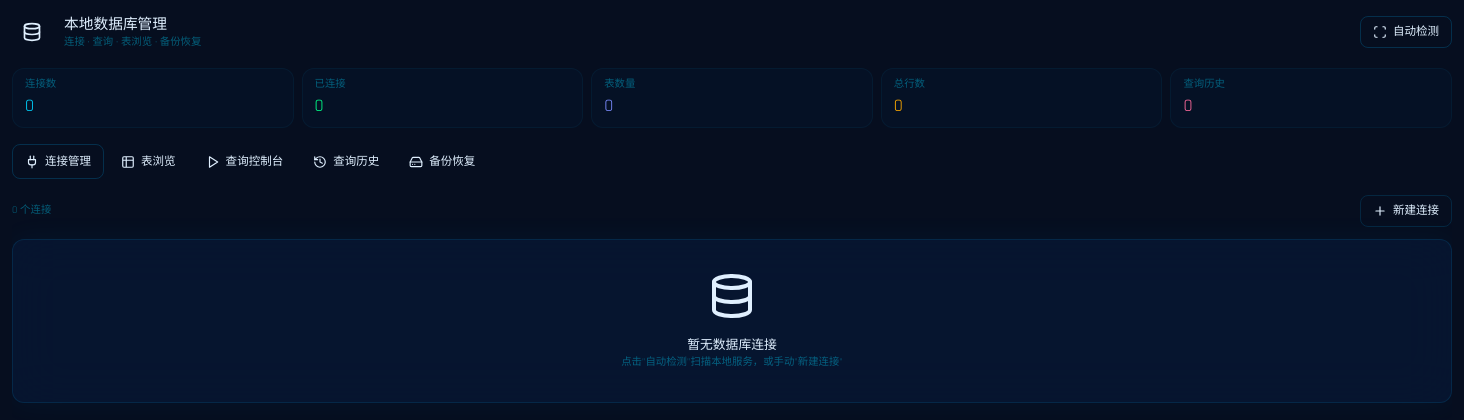
Test: DatabaseManager › 查询历史空态应提示自动记录
Click the button "查询历史": (346,162) [300,144,392,179]
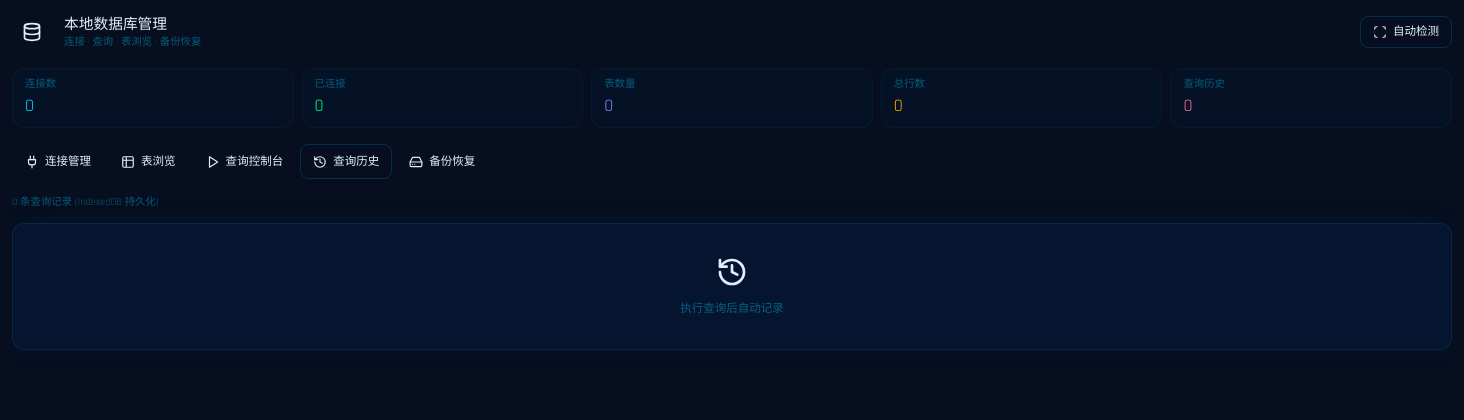
Result: the text "执行查询后自动记录" is shown at [680,301,784,316]
